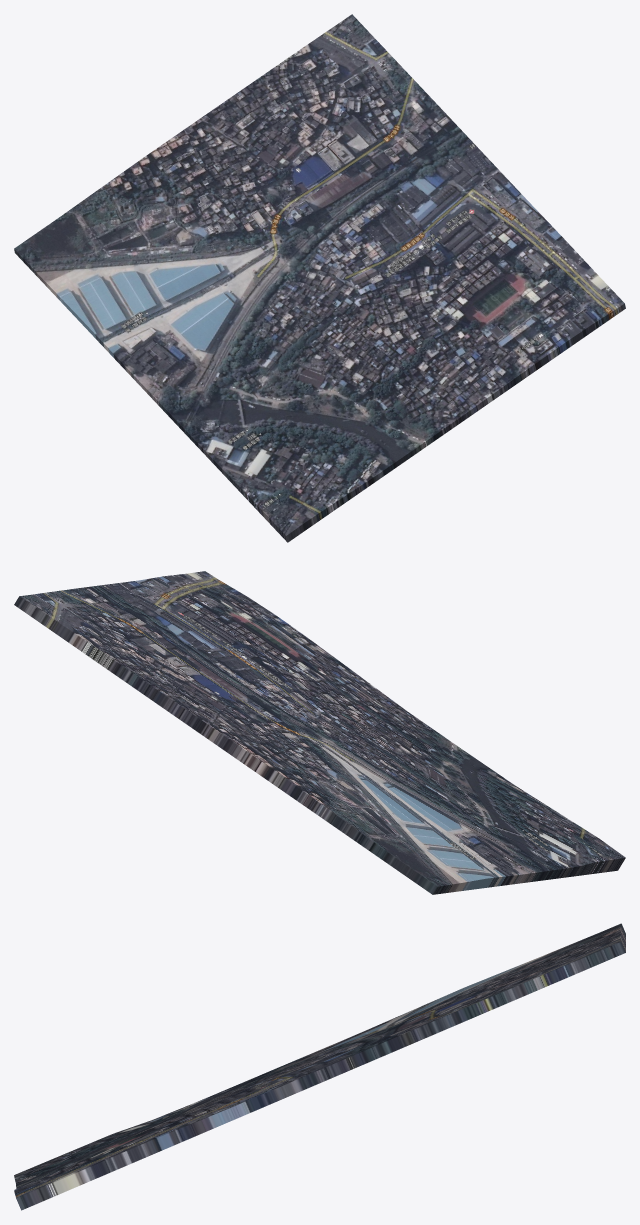
The picture shows the model from 3 angles, top to bottom: view 1: azimuth 30°, elevation 25°; view 2: azimuth 150°, elevation 25°; view 3: azimuth 270°, elevation 25°; orthographic projection. The views are drawn at different scales.
Visible parts, largest first — view 1: 0_14_1; view 2: 0_14_1; view 3: 0_14_1.
Boxes of the visible parts, x1,y1,x2,y2 form: 0_14_1: (14, 14, 625, 542); 0_14_1: (14, 571, 625, 894); 0_14_1: (14, 923, 625, 1210).
Size of the model in its own units: 596 by 436 by 549.
Materials: 1 (1 with a texture image).
